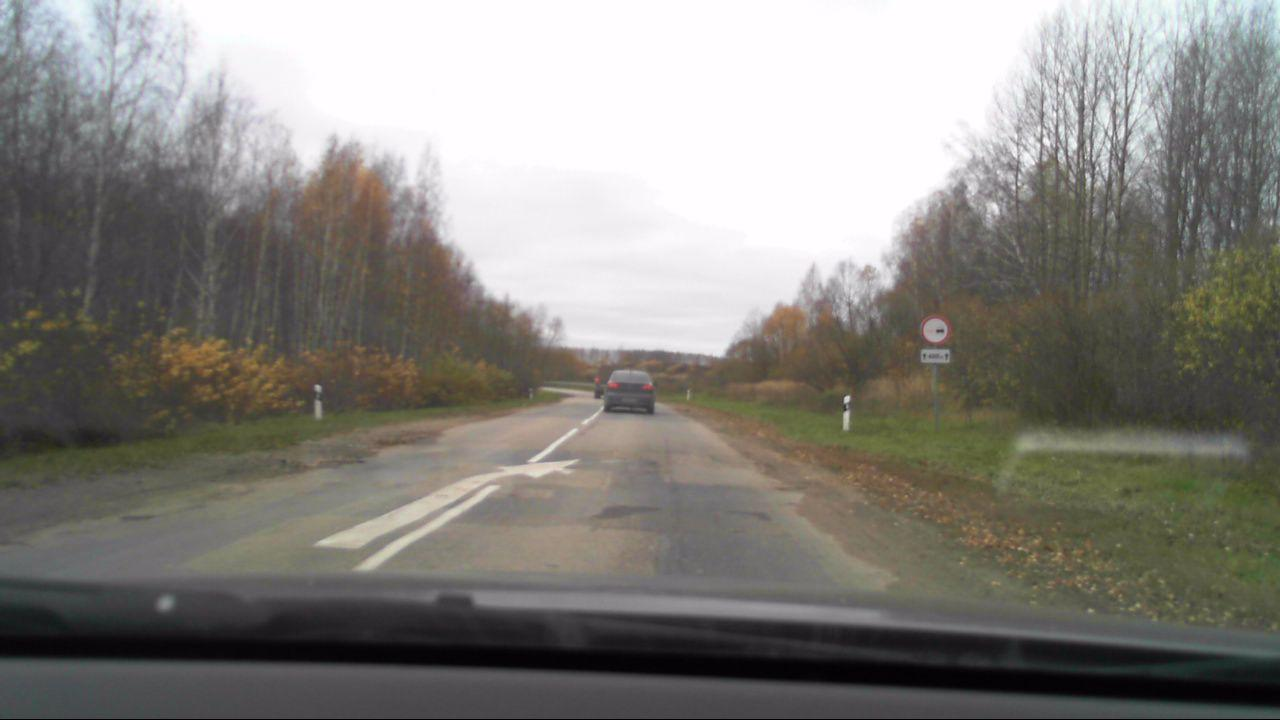3_20: (921, 314, 950, 344)
8_2_1: (918, 347, 954, 363)
